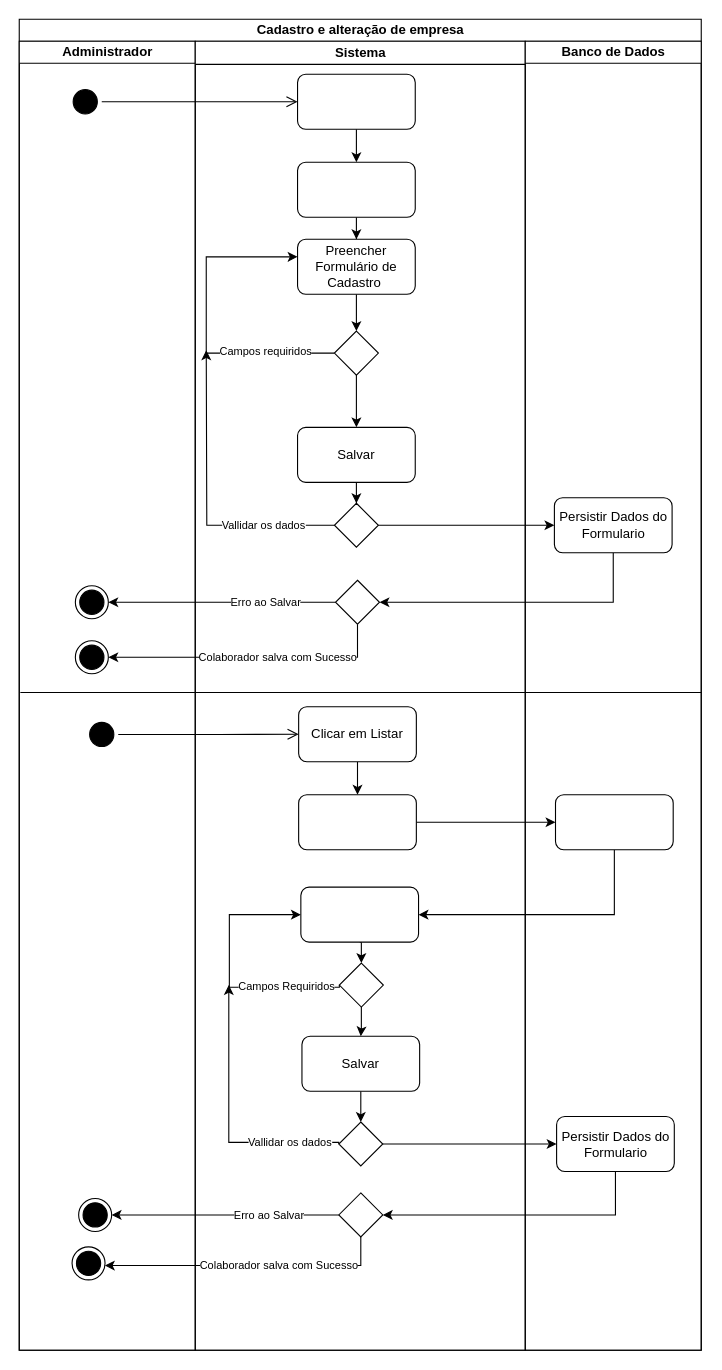
Some shapes in this 722 by 1370 pixel diagram are drawn without their labels. Each missing label, with the centre of its shape:
"Busca os dados do colaborador" belongs at (x=613, y=822).
"Editar os dados" belongs at (x=359, y=914).
"Seleciona colaborador" belongs at (x=357, y=822).
"Selecionar Colaborador" belongs at (x=355, y=189).
"Selecionar Menu lateral Gerenciar" belongs at (x=355, y=101).
